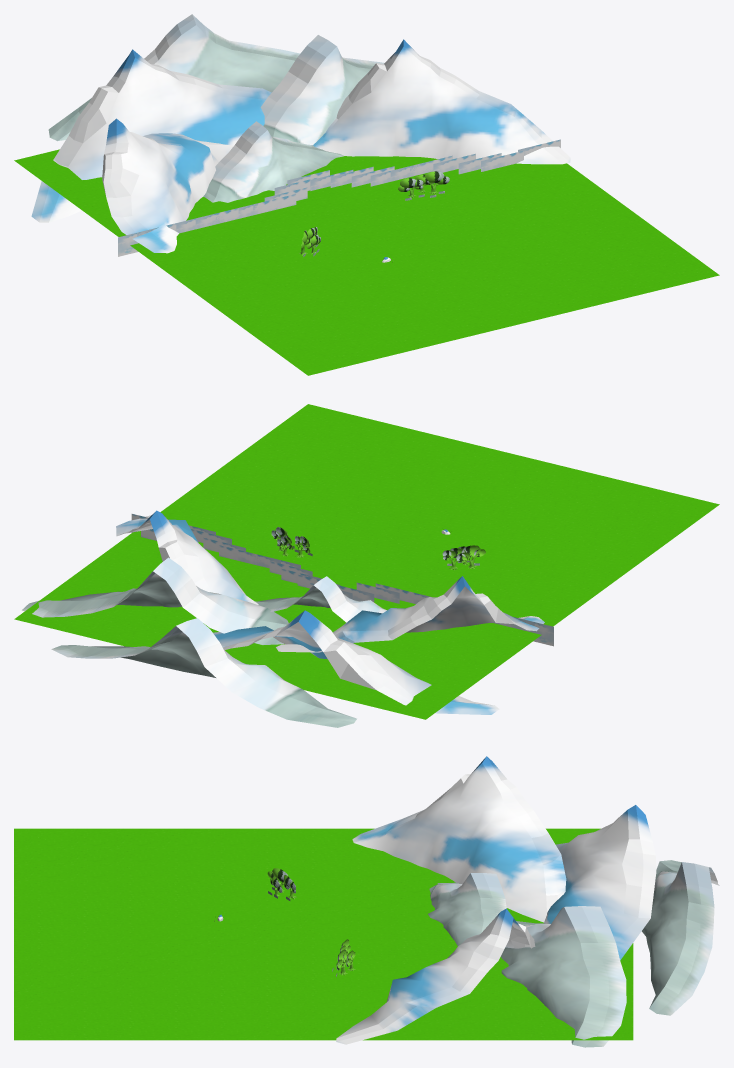
File: 320_bg_grassA.fbx
3 views of the same model, one above another, from view 1: azimuth 30°, elevation 25°; view 2: azimuth 150°, elevation 25°; view 3: azimuth 270°, elevation 25° (orthographic). The views are drawn at different scales.
Visible parts, largest first — view 1: ground, polySurface1, polySurface17, polySurface18, polySurface19, polySurface20, polySurface16; view 2: ground, polySurface20, polySurface19, polySurface17, polySurface18, polySurface1, polySurface16; view 3: ground, polySurface18, polySurface19, polySurface17, polySurface20, polySurface1, polySurface16.
Boxes of the visible parts, x1=… form: ground: x1=14, y1=149, x2=719, y2=375; polySurface1: x1=313, y1=39, x2=570, y2=164; polySurface17: x1=31, y1=49, x2=271, y2=222; polySurface18: x1=102, y1=118, x2=233, y2=253; polySurface19: x1=260, y1=35, x2=384, y2=144; polySurface20: x1=48, y1=14, x2=300, y2=141; polySurface16: x1=203, y1=121, x2=343, y2=202; ground: x1=14, y1=404, x2=719, y2=719; polySurface20: x1=51, y1=618, x2=356, y2=727; polySurface19: x1=22, y1=557, x2=288, y2=644; polySurface17: x1=213, y1=610, x2=499, y2=714; polySurface18: x1=276, y1=576, x2=544, y2=652; polySurface1: x1=116, y1=510, x2=258, y2=604; polySurface16: x1=255, y1=576, x2=386, y2=622; ground: x1=14, y1=828, x2=633, y2=1040; polySurface18: x1=352, y1=756, x2=566, y2=922; polySurface19: x1=501, y1=906, x2=626, y2=1047; polySurface17: x1=544, y1=805, x2=656, y2=960; polySurface20: x1=642, y1=860, x2=719, y2=1015; polySurface1: x1=336, y1=908, x2=535, y2=1044; polySurface16: x1=428, y1=873, x2=506, y2=945.
Size of the model in its own units: 5571 by 1254 by 7272.
